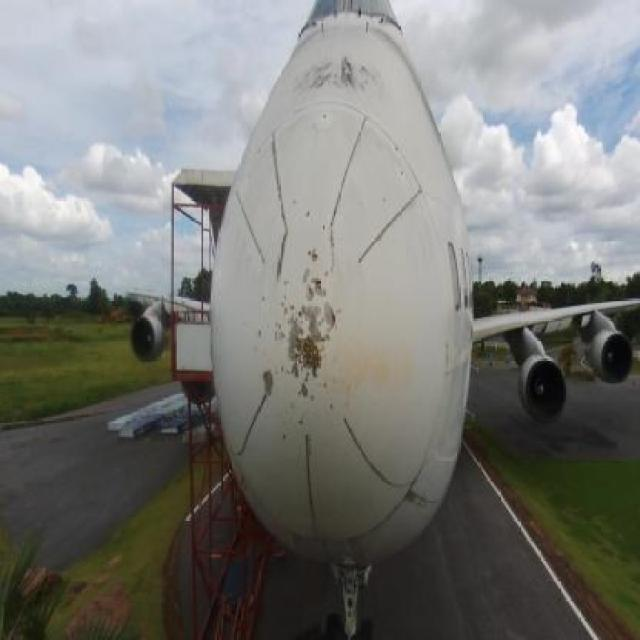Rust: (331, 337, 417, 406), (297, 50, 392, 99), (288, 326, 332, 383)
Scartch: (282, 298, 340, 400), (253, 352, 278, 405), (400, 479, 422, 512)
